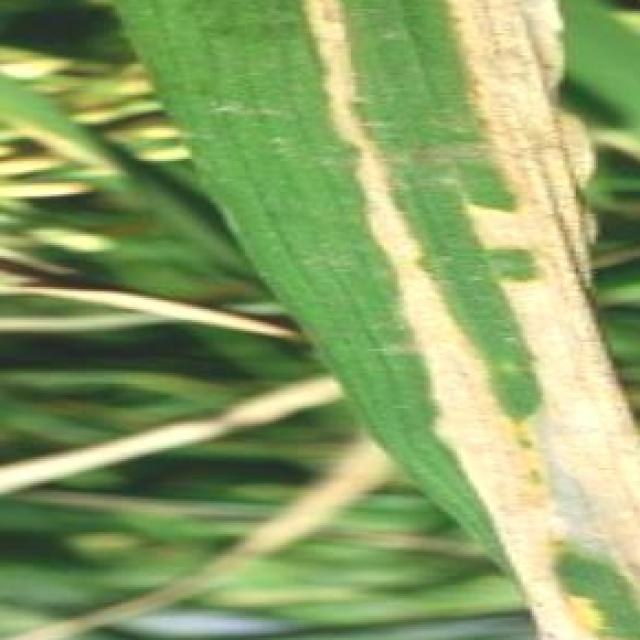Bacterial_Leaf_Blight: (293, 0, 598, 527)
